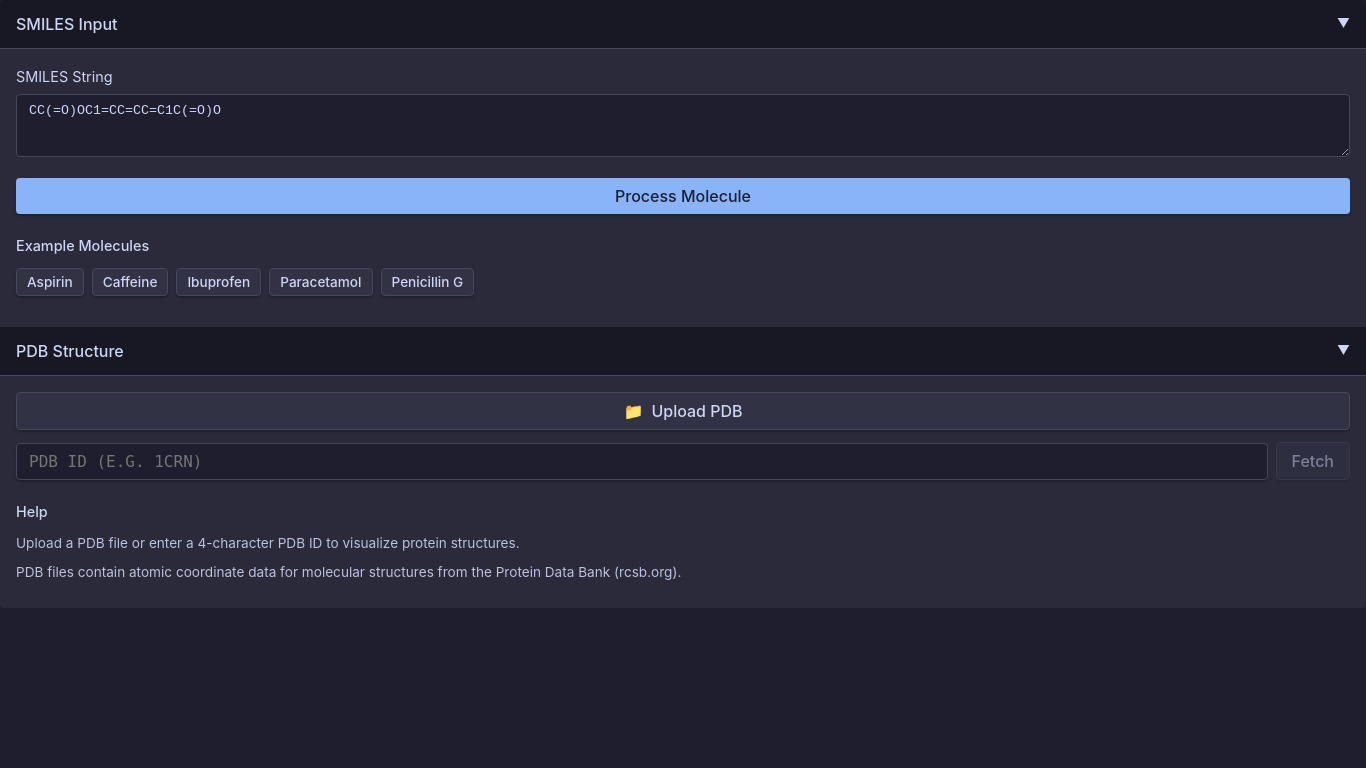
Scenario: MoleculeControls Component › handles PDB ID fetch error
This screenshot has width=1366, height=768.
# Enter PDB ID
In the field with placeholder "PDB ID (e.g. 1CRN)": coordinates (642, 461) [16,442,1268,480], type "1ABC"
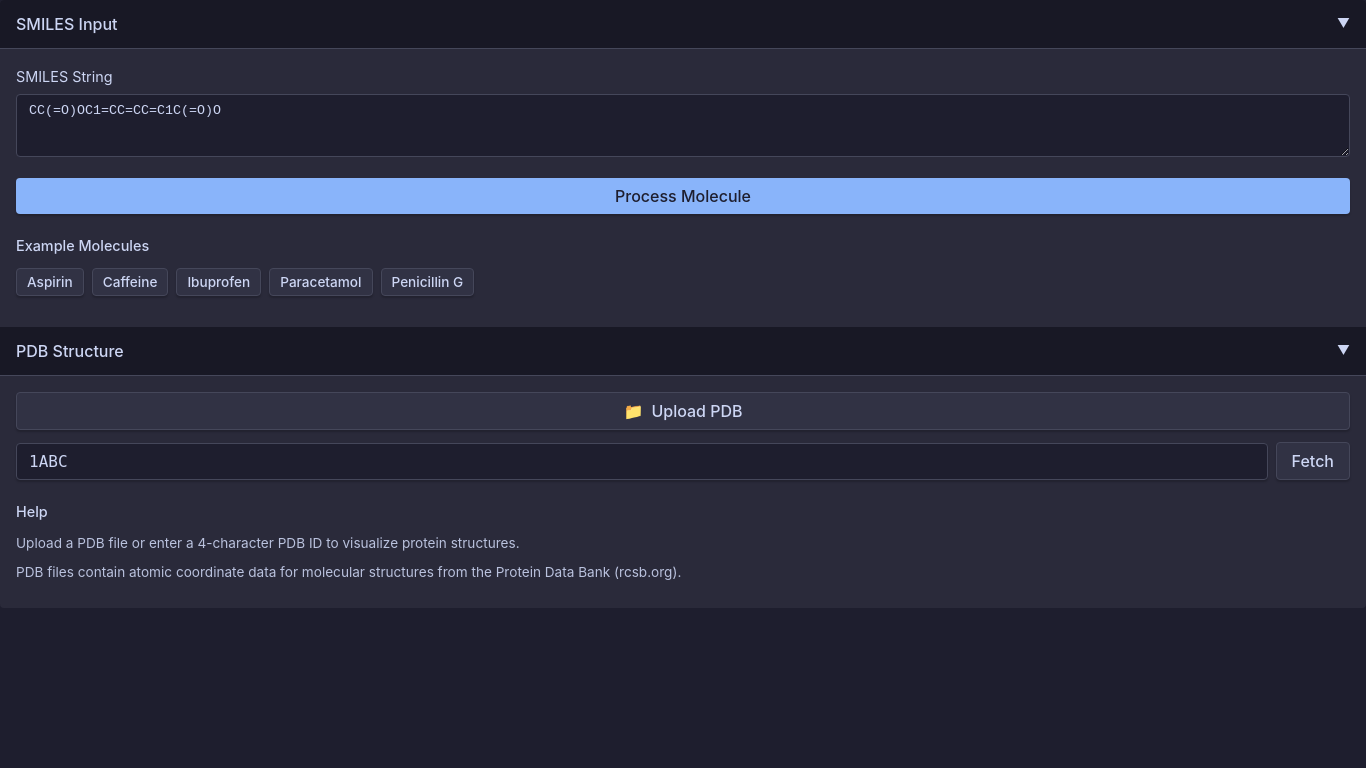
# Click fetch button
Click the button "Fetch": coordinates (1313, 461) [1276,442,1350,480]
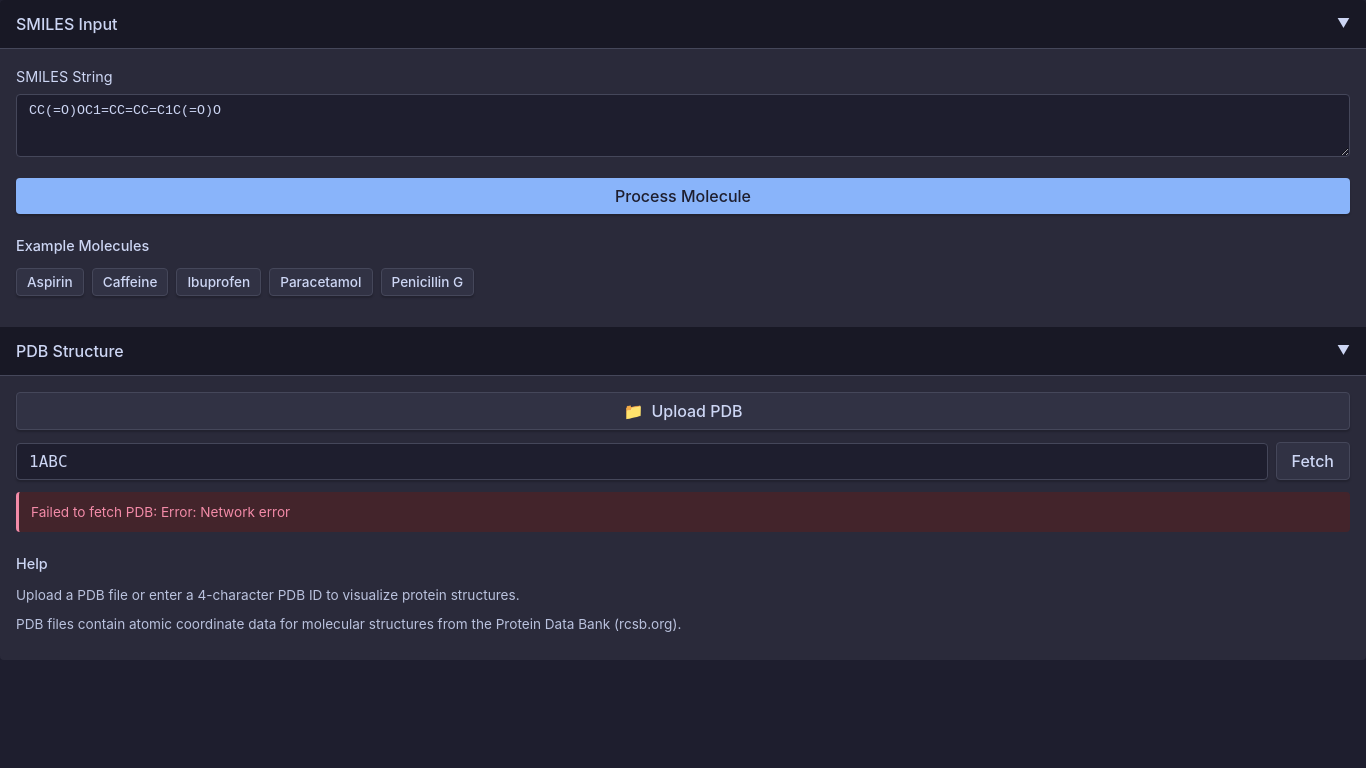
Now the text "Failed to fetch PDB: Error: Network error" is shown, box [16,492,1350,532]
